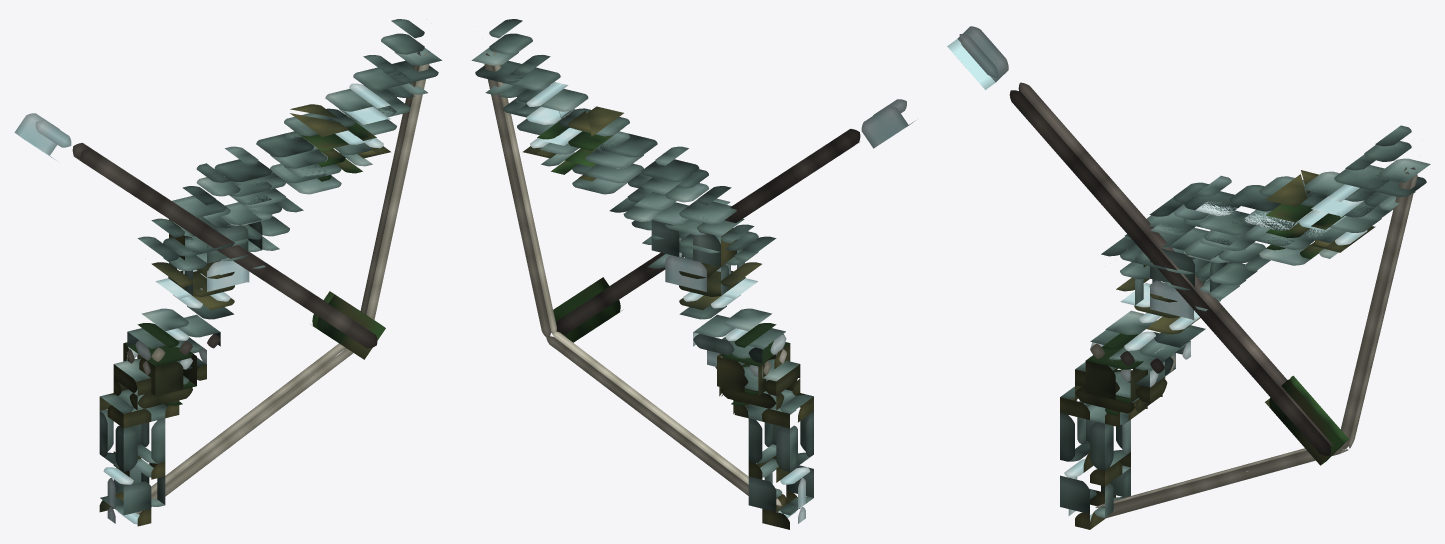
Rendered from driftwood_bow_pulling_2.obj.
3 views of the same model, side by side, from view 1: azimuth 30°, elevation 25°; view 2: azimuth 150°, elevation 25°; view 3: azimuth 330°, elevation 25° (orthographic). The views are drawn at different scales.
Visible parts, largest first — view 1: lit, fire; view 2: lit, fire; view 3: lit, fire.
Boxes of the visible parts, left/top/right/bottom form: lit: left=14, top=19, right=441, bottom=526; fire: left=312, top=291, right=385, bottom=359; lit: left=471, top=19, right=915, bottom=529; fire: left=553, top=277, right=622, bottom=342; lit: left=947, top=26, right=1430, bottom=529; fire: left=1265, top=375, right=1348, bottom=465.
Bounding box in the file's own units: 0.9527 × 0.9711 × 0.1314.
